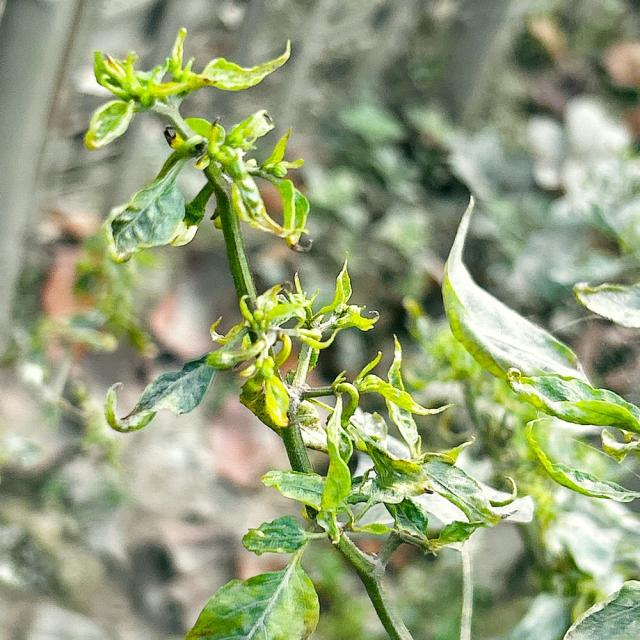Chilli_Leaf_Curl: (80, 25, 637, 638), (439, 193, 639, 503), (83, 26, 311, 264), (207, 254, 379, 429), (82, 26, 292, 150), (184, 540, 320, 638), (103, 351, 220, 433)
